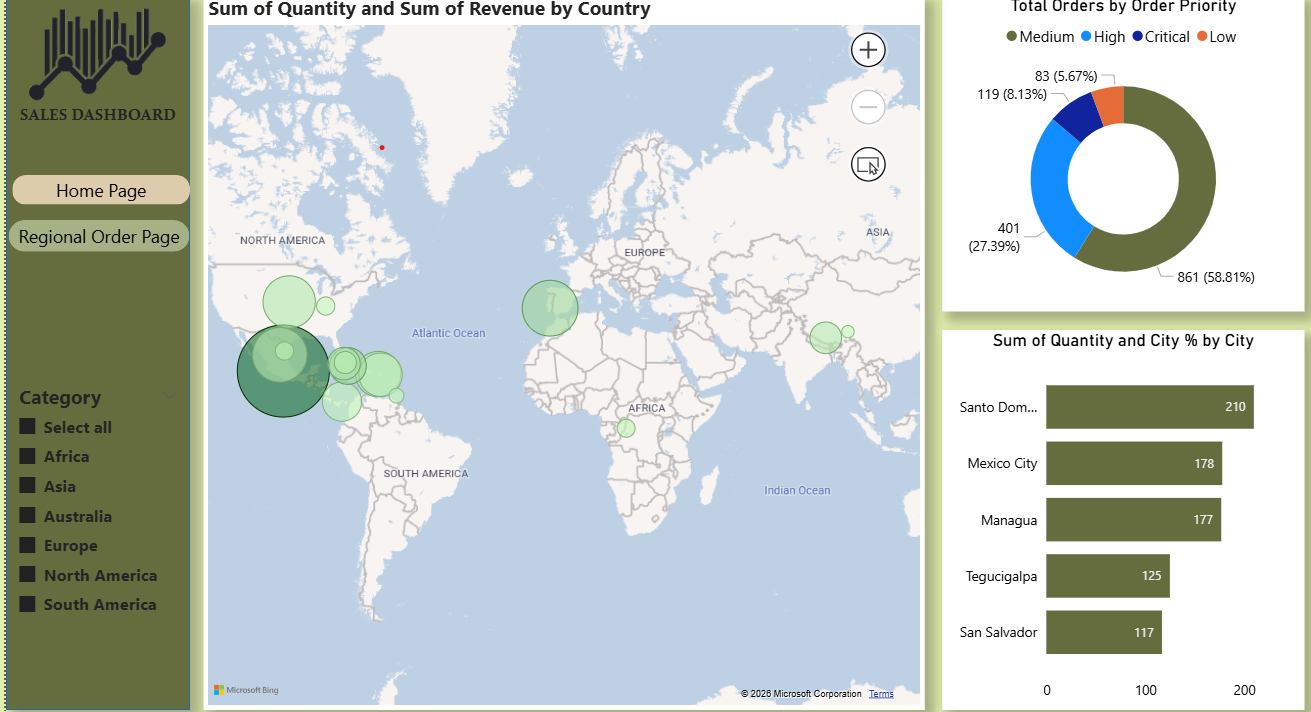

The page's visual inventory and layout, read from the dashboard file:
{"tool":"powerbi","page":{"name":"Regional Order Page","canvas":[1280,720],"ordinal":2},"visuals":[{"type":"shape","box":[0,10.1,180.3,699.7],"z":0},{"type":"image","box":[0,21.6,180.3,90.9],"z":1000},{"type":"textbox","box":[0,112.5,180.3,36.1],"z":2000},{"type":"slicer","fields":{"Values":["Factsales.Continent"]},"box":[0,385.2,180.3,240.9],"z":3000},{"type":"donutChart","fields":{"Y":["_Measures.Total Orders"],"Category":["Factsales.Order Priority"]},"box":[915.9,9.8,354.6,309.4],"z":4000},{"type":"map","fields":{"Category":["Region.Country","Region.State","Region.City"],"Size":["Sum(Factsales.Quantity)"]},"box":[193.3,10.1,705.5,699.7],"z":5000},{"type":"clusteredBarChart","fields":{"Category":["Region.City"],"Y":["Sum(Factsales.Quantity)"]},"box":[915.9,337.5,354.6,371.7],"z":6000},{"type":"pageNavigator","box":[5.9,186,174.2,29.5],"z":7000},{"type":"actionButton","box":[3,230.3,177.1,31],"z":8000}]}

Visuals, with their boxes in screenshot pixels (x1, y1, x2, y2):
shape: <region>0, 0, 183, 709</region>
image: <region>0, 12, 183, 104</region>
textbox: <region>0, 104, 183, 140</region>
slicer - Factsales.Continent: <region>0, 380, 183, 624</region>
donutChart - _Measures.Total Orders x Factsales.Order Priority: <region>928, 0, 1287, 313</region>
map - Region.Country x Region.State: <region>196, 0, 911, 709</region>
clusteredBarChart - Region.City x Sum(Factsales.Quantity): <region>928, 332, 1287, 708</region>
pageNavigator: <region>6, 178, 182, 208</region>
actionButton: <region>3, 223, 182, 255</region>
